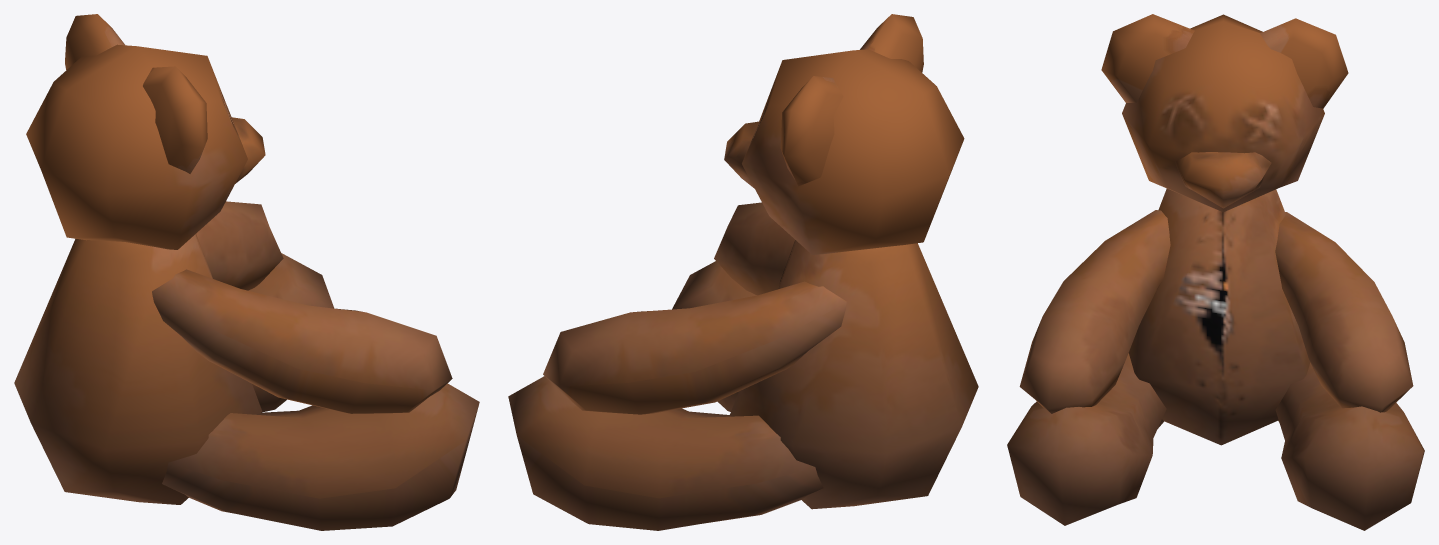
The model's file is Msh_StuffedToy_Env.fbx.
3 views of the same model, side by side, from view 1: azimuth 30°, elevation 25°; view 2: azimuth 150°, elevation 25°; view 3: azimuth 270°, elevation 25° (orthographic). The views are drawn at different scales.
Parts seen in each view (by area): view 1: Msh_StuffedToy_Env; view 2: Msh_StuffedToy_Env; view 3: Msh_StuffedToy_Env.
Part boxes in pixels (<box>): Msh_StuffedToy_Env: <box>14,14,479,530</box>; Msh_StuffedToy_Env: <box>508,14,978,530</box>; Msh_StuffedToy_Env: <box>1007,14,1424,530</box>.
Size of the model in its own units: 67.02 by 80.12 by 71.21.
